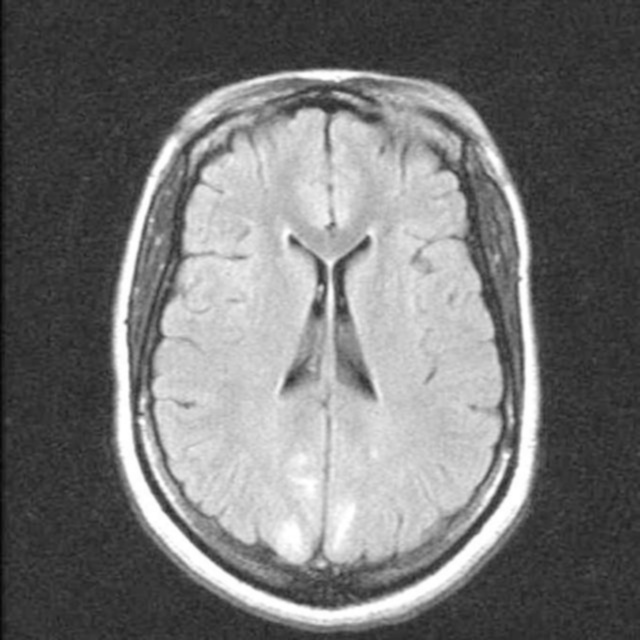glioma tumor: (186, 157, 470, 531)
